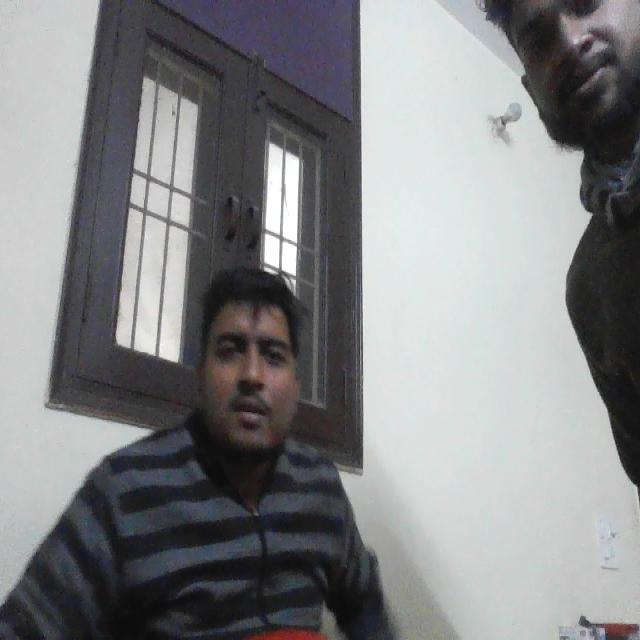real: (192, 232, 315, 465)
